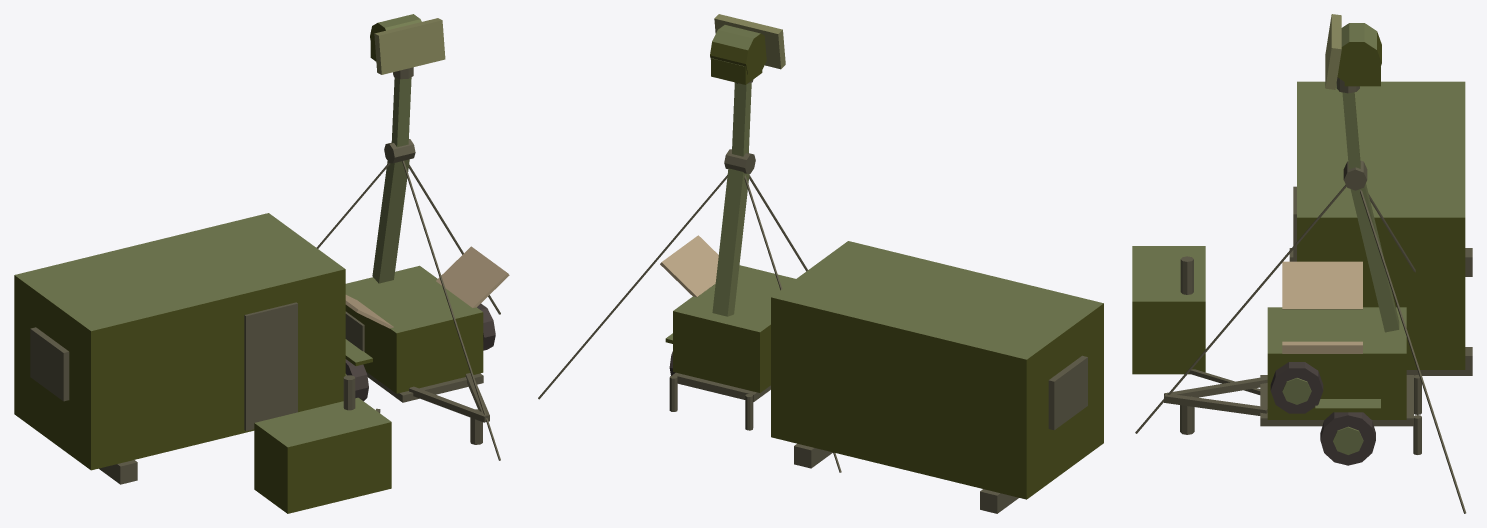
The model's file is SM_Radar_v1_Instalacion_LOD0.fbx.
The picture shows the model from 3 angles, left to right: view 1: azimuth 30°, elevation 25°; view 2: azimuth 150°, elevation 25°; view 3: azimuth 270°, elevation 25°; orthographic projection. The views are drawn at different scales.
Visible parts, largest first — view 1: SM_bloques.radar_v1_LOD0, Antena; view 2: SM_bloques.radar_v1_LOD0, Antena; view 3: SM_bloques.radar_v1_LOD0, Antena.
Boxes of the visible parts, x1,y1,x2,y2 form: SM_bloques.radar_v1_LOD0: [14, 77, 509, 513]; Antena: [370, 14, 445, 79]; SM_bloques.radar_v1_LOD0: [538, 82, 1103, 513]; Antena: [710, 14, 785, 84]; SM_bloques.radar_v1_LOD0: [1132, 81, 1472, 513]; Antena: [1325, 14, 1381, 93].
Bounding box in the file's own units: 8.51 × 6.07 × 4.65.
